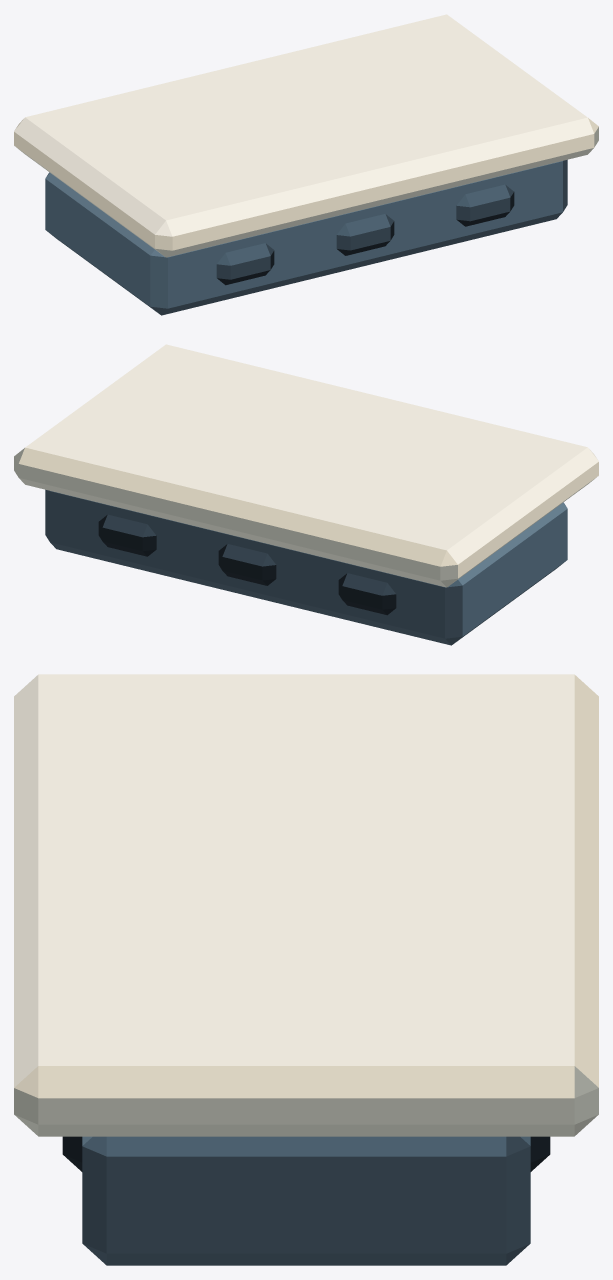
File: OneWay.gltf
The picture shows the model from 3 angles, top to bottom: view 1: azimuth 30°, elevation 25°; view 2: azimuth 150°, elevation 25°; view 3: azimuth 270°, elevation 25°; orthographic projection. The views are drawn at different scales.
Visible parts, largest first — view 1: OneWay_baked; view 2: OneWay_baked; view 3: OneWay_baked.
Boxes of the visible parts, x1,y1,x2,y2 form: OneWay_baked: (14, 14, 598, 315); OneWay_baked: (14, 344, 598, 645); OneWay_baked: (14, 674, 598, 1265).
Size of the model in its own units: 1 by 0.24 by 0.6.
